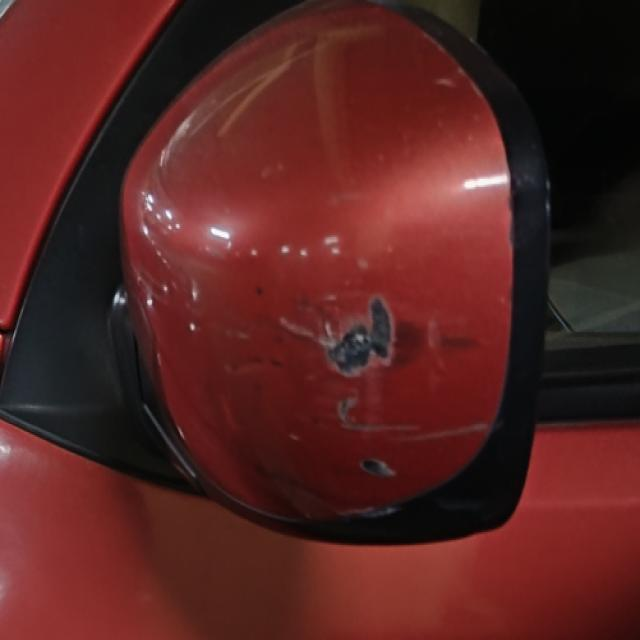scratch: (276, 287, 474, 498)
